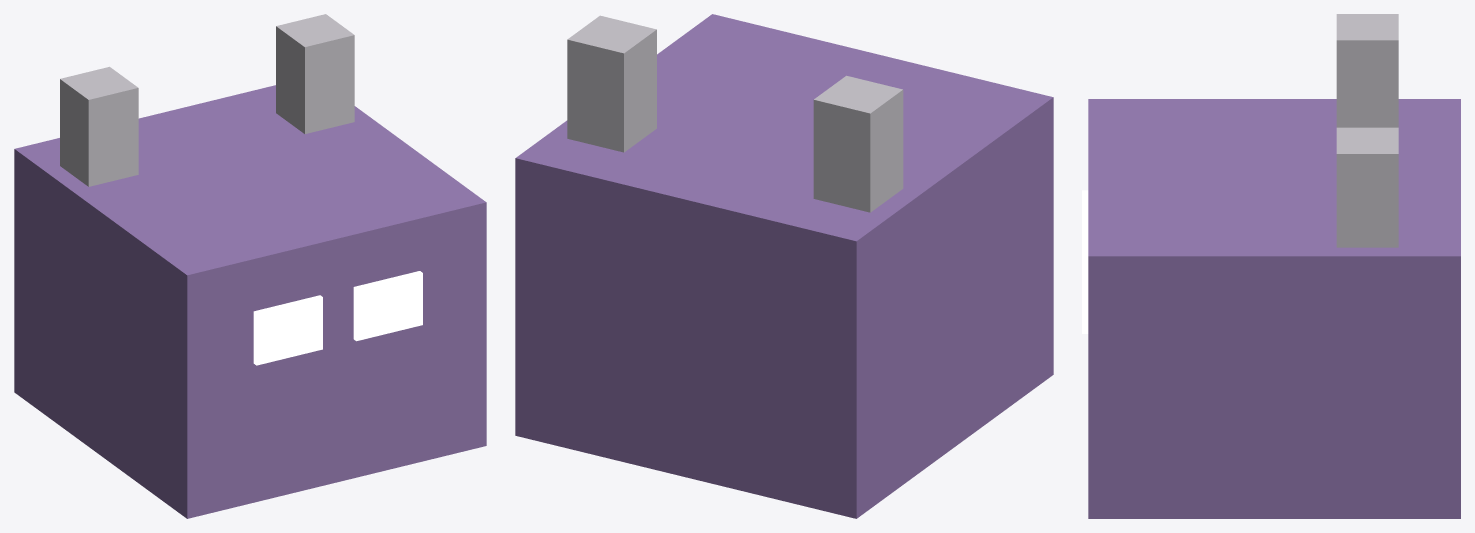
The model's file is brute.glb.
3 renders of one model, left to right at view 1: azimuth 30°, elevation 25°; view 2: azimuth 150°, elevation 25°; view 3: azimuth 270°, elevation 25°, orthographic. The views are drawn at different scales.
Parts seen in each view (by area): view 1: body; view 2: body; view 3: body.
Part boxes in pixels (x1,y1,x2,y2): body: (14,14,486,518); body: (515,14,1053,518); body: (1082,14,1460,518).
Bounding box in the file's own units: 1.12 × 1.19 × 1.14.
